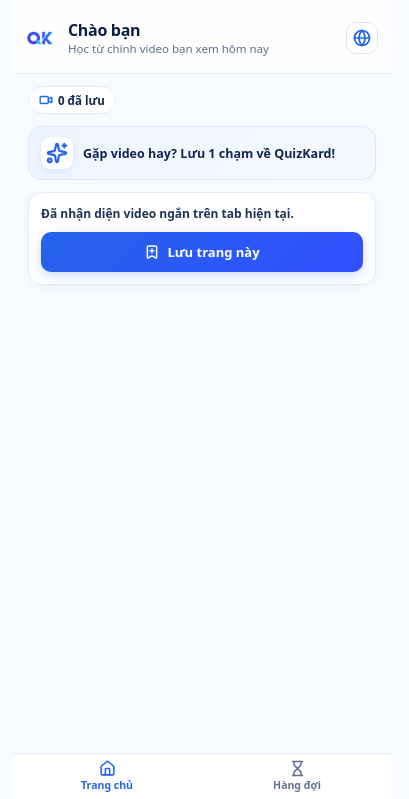
Test: App — popup lưu trang hiện tại + hàng đợi › (a) tab TikTok hợp lệ → bấm Lưu trang này lưu vào storage + banner thành công, sang queue thấy card
Click the button "Lưu trang này": coordinates (202, 252) [41,232,363,272]
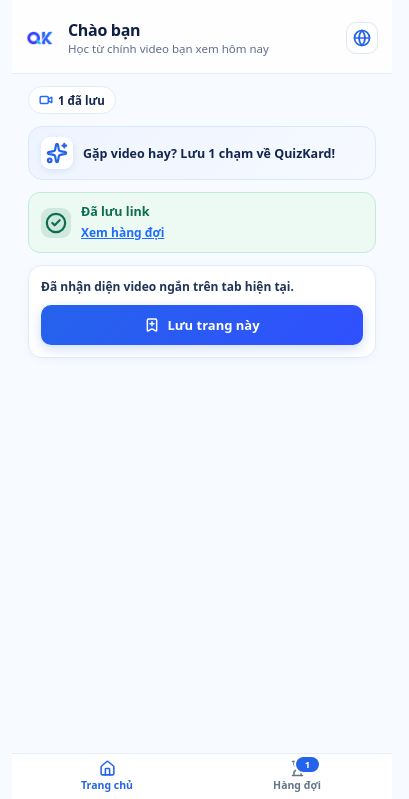
Expected: the text "Đã lưu link" is shown, [81,203,149,220]
// Sang hàng đợi qua tab — card TikTok + status chip pending + URL rút gọn.
Click the button with test id "tab-queue": coordinates (297, 776) [202,754,392,798]
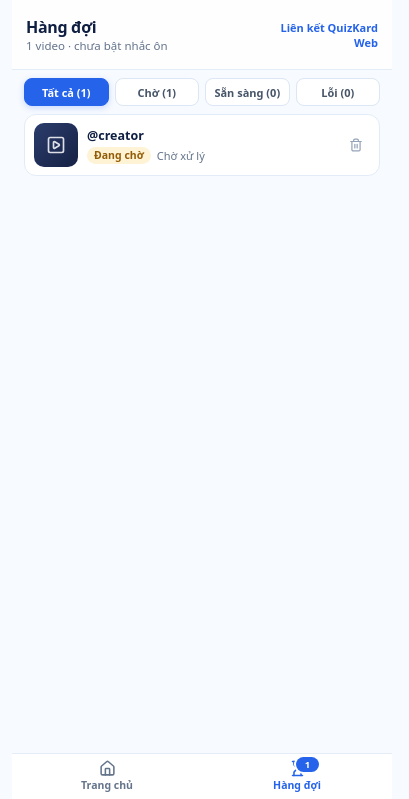
Expected: the heading "Hàng đợi" is shown, [26,16,96,38]
Expected: the text "Chờ xử lý" is shown, [157,148,205,162]
Expected: the text "Đang chờ" is shown, [87,146,151,164]
// Về trang chủ qua tab.
Click the button with test id "tab-home": coordinates (107, 776) [12,754,202,798]
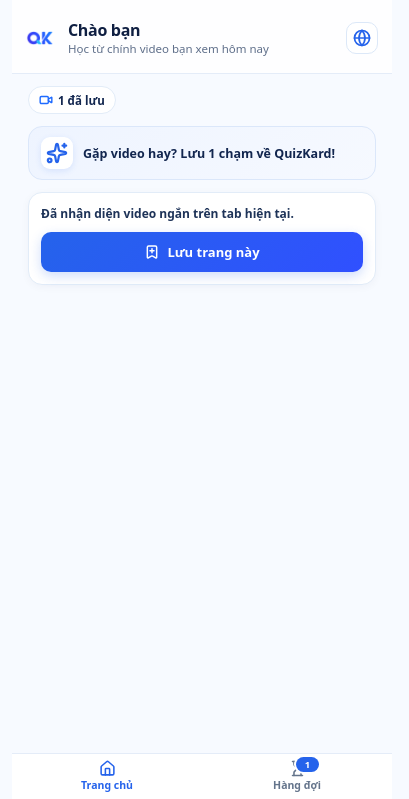
Expected: the button "Lưu trang này" is shown, [41,232,363,272]
